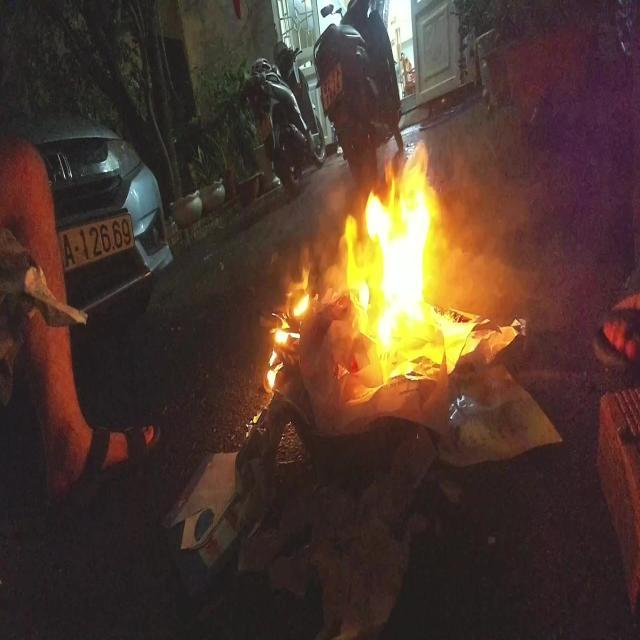Fire: (259, 146, 478, 424)
